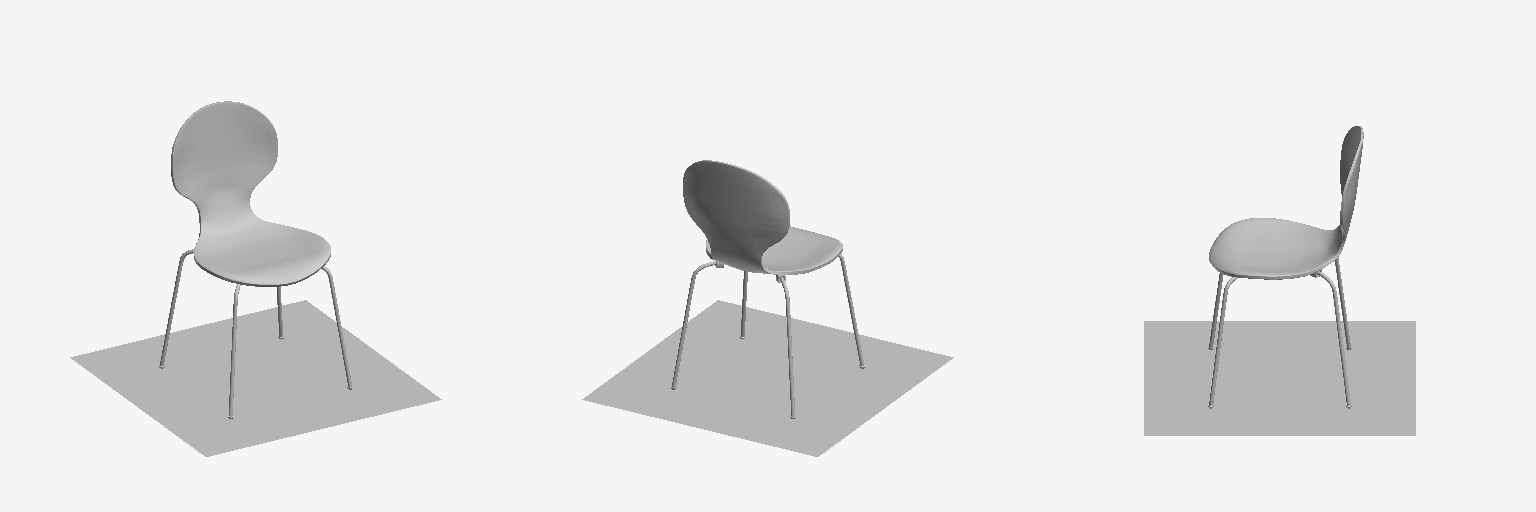
The model's file is MCRW7640.obj.
The picture shows the model from 3 angles: view 1: azimuth 30°, elevation 25°; view 2: azimuth 150°, elevation 25°; view 3: azimuth 270°, elevation 25°; orthographic projection.
Parts seen in each view (by area): view 1: shadow_plane_v6, not_clear_obj_3_v6, not_clear_obj_0_v6; view 2: shadow_plane_v6, not_clear_obj_3_v6, not_clear_obj_0_v6; view 3: shadow_plane_v6, not_clear_obj_3_v6, not_clear_obj_0_v6.
Boxes of the visible parts, box(x1,y1,x2,y2) form: shadow_plane_v6: box(70, 300, 441, 456); not_clear_obj_3_v6: box(171, 101, 330, 286); not_clear_obj_0_v6: box(160, 249, 351, 416); shadow_plane_v6: box(582, 300, 953, 456); not_clear_obj_3_v6: box(683, 160, 842, 274); not_clear_obj_0_v6: box(672, 254, 863, 416); shadow_plane_v6: box(1144, 321, 1415, 435); not_clear_obj_3_v6: box(1209, 126, 1363, 279); not_clear_obj_0_v6: box(1209, 258, 1350, 405).
Size of the model in its own units: 88.01 by 87.4 by 88.01.